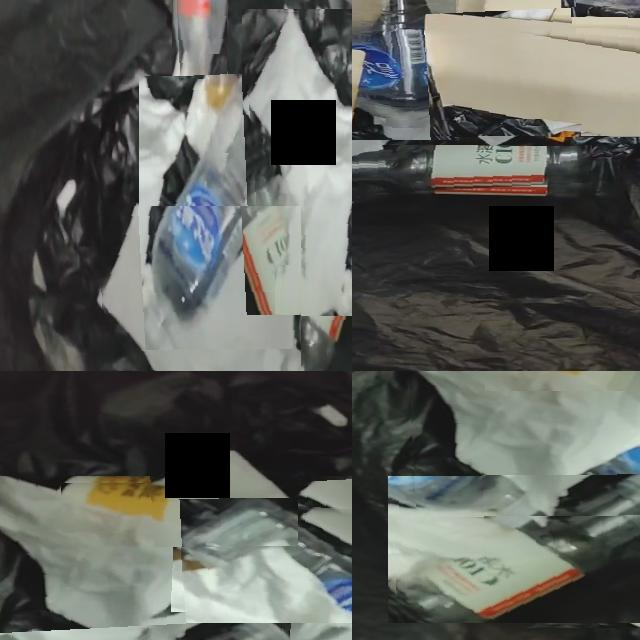bottle: (148, 80, 287, 349), (395, 488, 640, 623), (181, 502, 352, 608), (352, 0, 455, 140), (290, 176, 352, 371), (352, 145, 593, 190), (528, 439, 640, 521), (177, 0, 227, 109)
carton: (425, 19, 640, 136), (404, 0, 576, 42)
dixie_cup: (62, 483, 218, 529)
paper: (0, 476, 352, 640), (102, 206, 301, 371), (416, 371, 640, 517), (247, 12, 352, 316), (522, 481, 640, 622), (151, 451, 298, 547), (210, 54, 242, 154), (478, 120, 582, 146), (571, 7, 628, 28), (275, 266, 293, 314)
